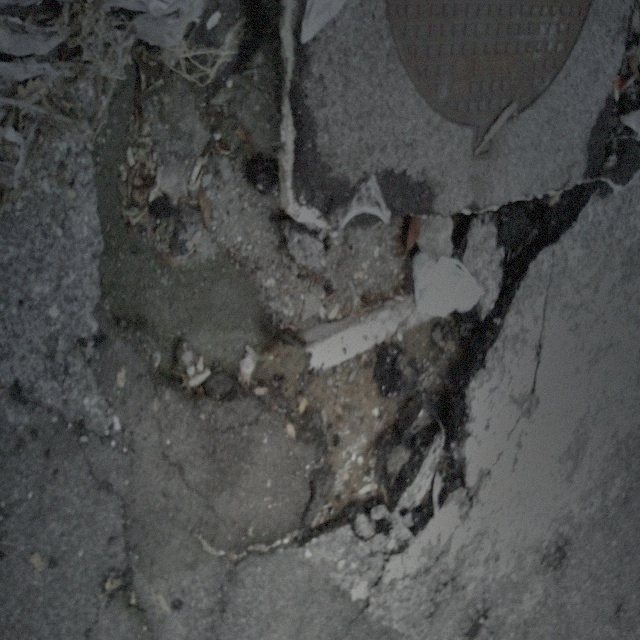pothole: (205, 174, 582, 519), (89, 31, 288, 394)
